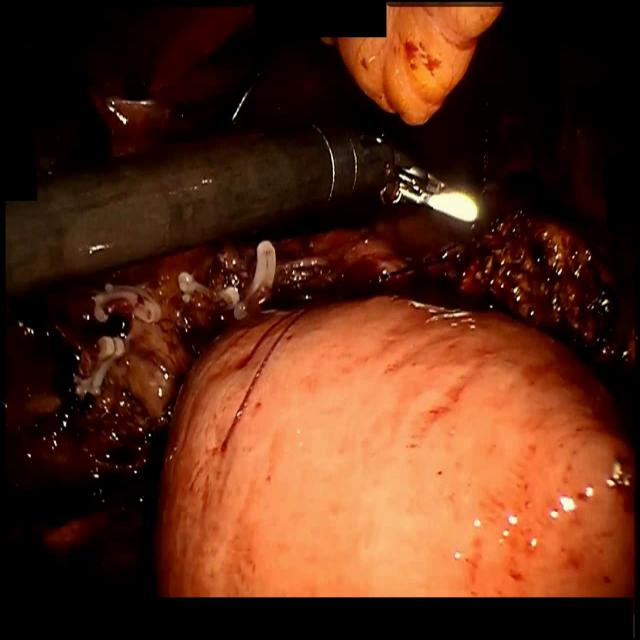surgical-area: (3, 0, 640, 596)
surgical-tool: (2, 121, 480, 299)
